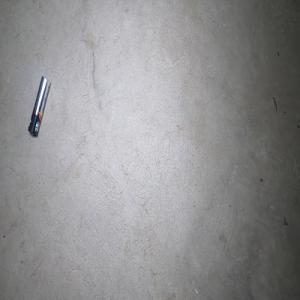Battery: (27, 75, 50, 136)
